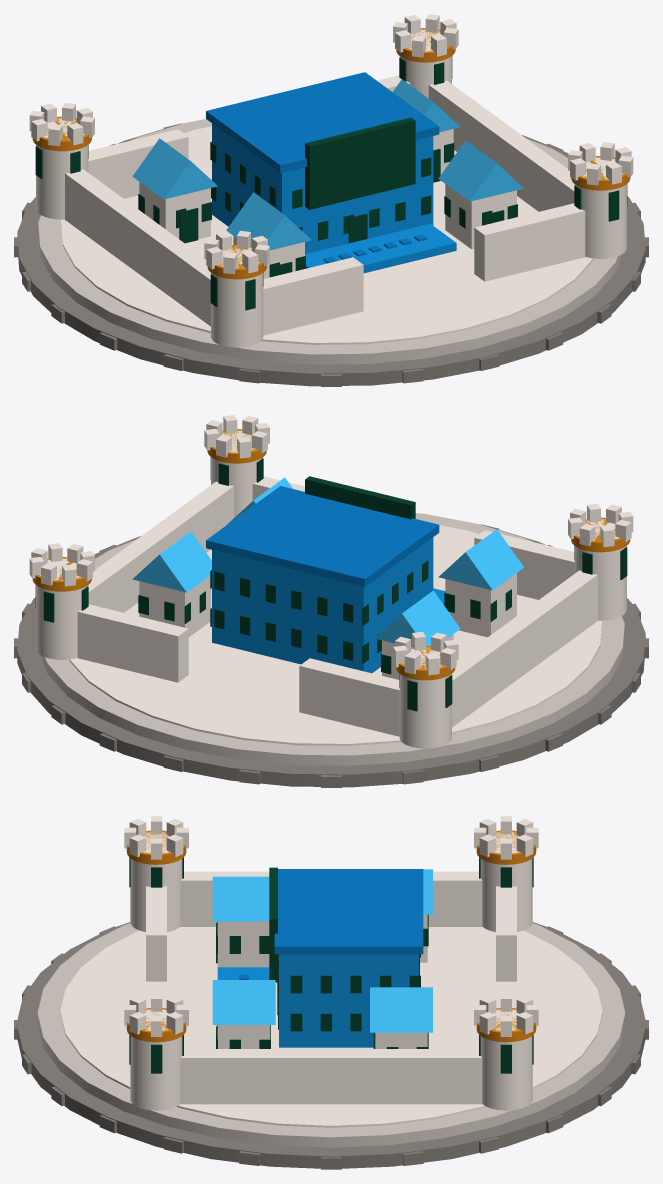
Rendered from city_workstation.glb.
The picture shows the model from 3 angles, top to bottom: view 1: azimuth 30°, elevation 25°; view 2: azimuth 150°, elevation 25°; view 3: azimuth 270°, elevation 25°; orthographic projection.
Visible parts, largest first — view 1: city-floor_grey, curtain-wall_white, corner-tower_white, lower-plinth_stone, upper-plinth_white, gate-wall_white, workstation-hall_green, workstation-hall_white, courtyard-building_green, terminal-face_darkgreen, courtyard-building_white, keyboard-step_white (+5 smaller); view 2: curtain-wall_white, city-floor_grey, corner-tower_white, lower-plinth_stone, workstation-hall_white, upper-plinth_white, workstation-hall_green, courtyard-building_green, courtyard-building_white, workstation-hall_darkgreen, gate-wall_white, plinth-tooth_stone (+4 smaller); view 3: city-floor_grey, curtain-wall_white, corner-tower_white, upper-plinth_white, lower-plinth_stone, workstation-hall_green, workstation-hall_white, courtyard-building_green, courtyard-building_white, plinth-tooth_stone, corner-tower_stone, gate-wall_white (+5 smaller).
Boxes of the visible parts, bbox=[...] form: city-floor_grey: bbox=[61, 126, 593, 344]; curtain-wall_white: bbox=[65, 75, 574, 326]; corner-tower_white: bbox=[29, 14, 633, 347]; lower-plinth_stone: bbox=[17, 125, 645, 386]; upper-plinth_white: bbox=[38, 119, 622, 364]; gate-wall_white: bbox=[263, 203, 585, 335]; workstation-hall_green: bbox=[206, 72, 439, 173]; workstation-hall_white: bbox=[212, 123, 433, 253]; courtyard-building_green: bbox=[132, 79, 523, 250]; terminal-face_darkgreen: bbox=[305, 117, 415, 209]; courtyard-building_white: bbox=[139, 129, 516, 278]; keyboard-step_white: bbox=[305, 223, 456, 273]; curtain-wall_white: bbox=[77, 481, 597, 736]; city-floor_grey: bbox=[69, 525, 601, 745]; corner-tower_white: bbox=[29, 415, 633, 748]; lower-plinth_stone: bbox=[17, 526, 645, 787]; workstation-hall_white: bbox=[212, 537, 433, 673]; upper-plinth_white: bbox=[40, 513, 624, 765]; workstation-hall_green: bbox=[206, 486, 439, 586]; courtyard-building_green: bbox=[132, 477, 523, 647]; courtyard-building_white: bbox=[139, 573, 516, 679]; workstation-hall_darkgreen: bbox=[210, 560, 428, 663]; gate-wall_white: bbox=[252, 476, 574, 599]; plinth-tooth_stone: bbox=[14, 524, 648, 787]; city-floor_grey: bbox=[60, 927, 602, 1127]; curtain-wall_white: bbox=[180, 871, 516, 1104]; corner-tower_white: bbox=[124, 816, 538, 1110]; upper-plinth_white: bbox=[37, 923, 625, 1147]; lower-plinth_stone: bbox=[16, 922, 646, 1168]; workstation-hall_green: bbox=[274, 869, 423, 954]; workstation-hall_white: bbox=[279, 954, 418, 1047]; courtyard-building_green: bbox=[212, 869, 432, 1032]; courtyard-building_white: bbox=[217, 914, 427, 1048]; plinth-tooth_stone: bbox=[14, 926, 648, 1169]; corner-tower_stone: bbox=[126, 830, 536, 1042]; gate-wall_white: bbox=[146, 886, 166, 1008].
Size of the model in its own units: 23.59 by 5.85 by 23.59.
